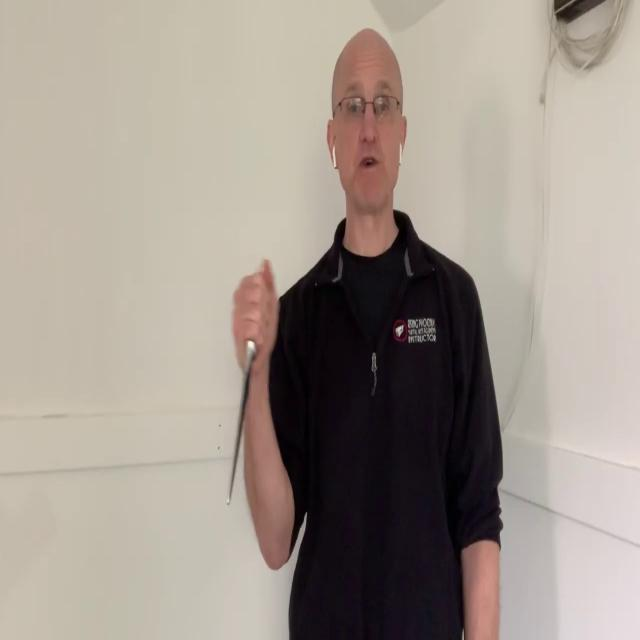Knife_Handle: (226, 257, 280, 506)
